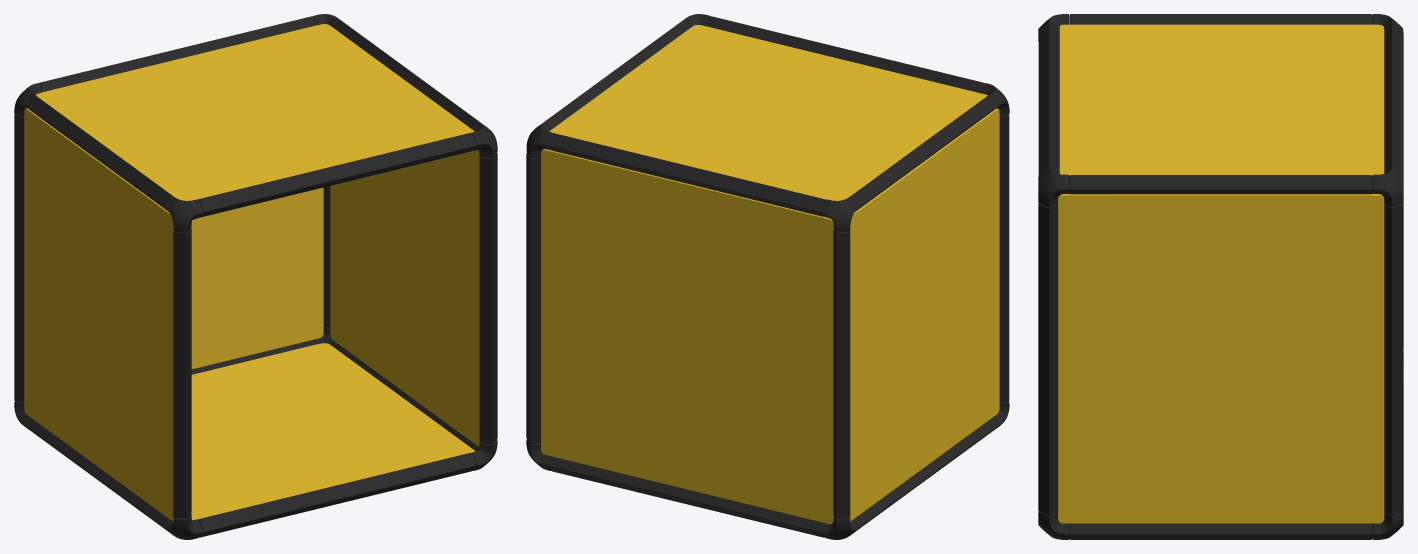
3 renders of one model, left to right at view 1: azimuth 30°, elevation 25°; view 2: azimuth 150°, elevation 25°; view 3: azimuth 270°, elevation 25°, orthographic. The views are drawn at different scales.
Parts seen in each view (by area): view 1: 420x374x420; view 2: 420x374x420; view 3: 420x374x420.
Boxes of the visible parts, <box> form: 420x374x420: <box>14,14,497,539</box>; 420x374x420: <box>526,14,1009,539</box>; 420x374x420: <box>1038,14,1403,539</box>.
Bounding box in the file's own units: 0.4977 × 0.4976 × 0.4513.
